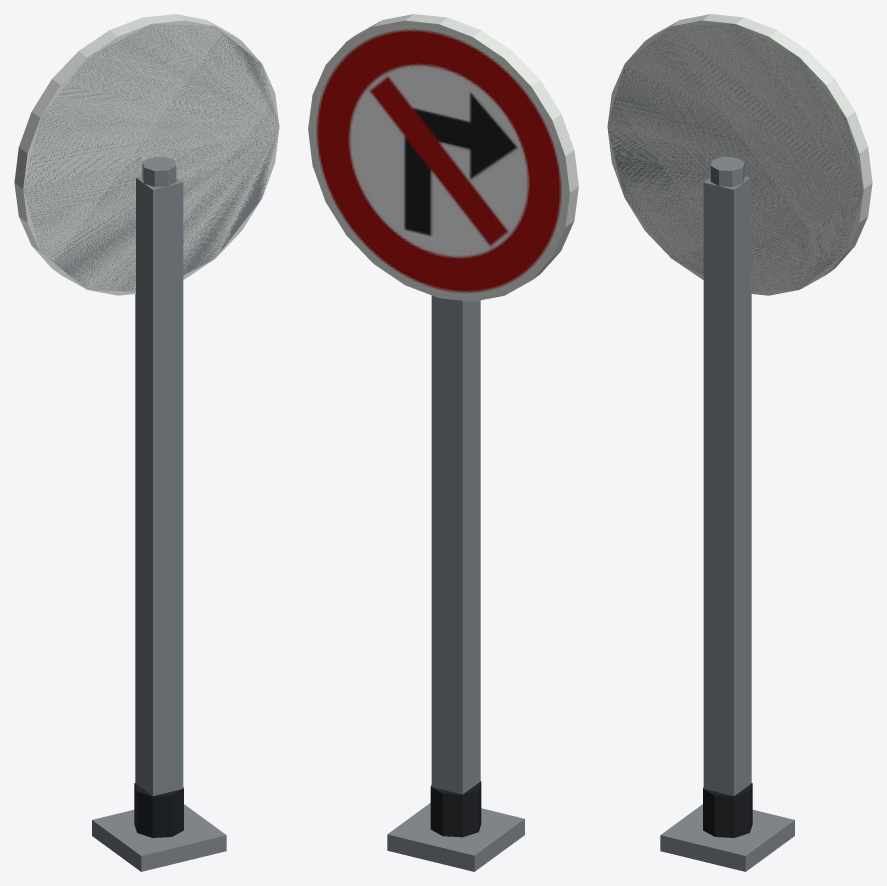
File: no-right-turn-sign.glb
The picture shows the model from 3 angles, left to right: view 1: azimuth 30°, elevation 25°; view 2: azimuth 150°, elevation 25°; view 3: azimuth 330°, elevation 25°; orthographic projection. The views are drawn at different scales.
Parts seen in each view (by area): view 1: no-right-turn-sign (×2); view 2: no-right-turn-sign (×2); view 3: no-right-turn-sign (×2).
Boxes of the visible parts, box(x1,y1,x2,y2) form: no-right-turn-sign (×2): box(14, 14, 279, 871); no-right-turn-sign (×2): box(308, 14, 578, 871); no-right-turn-sign (×2): box(607, 14, 872, 871).
Size of the model in its own units: 2.35 by 7.14 by 0.784.
Materials: 4 (1 with a texture image).
